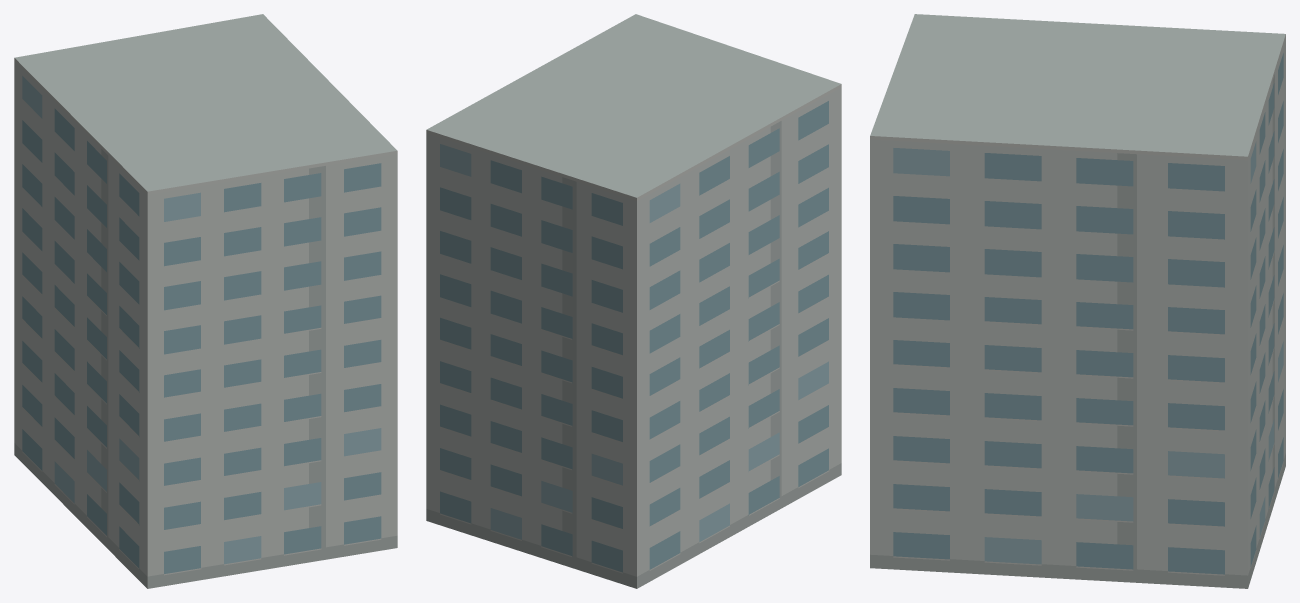
The model's file is residential-7b1aa19a-1a05-4b7d-828a-0db3f1a5bff5.glb.
3 renders of one model, left to right at view 1: azimuth 30°, elevation 25°; view 2: azimuth 150°, elevation 25°; view 3: azimuth 270°, elevation 25°, orthographic. The views are drawn at different scales.
Parts seen in each view (by area): view 1: residential-7b1aa19a-1a05-4b7d-828a-0db3f1a5bff5.tmp; view 2: residential-7b1aa19a-1a05-4b7d-828a-0db3f1a5bff5.tmp; view 3: residential-7b1aa19a-1a05-4b7d-828a-0db3f1a5bff5.tmp.
Part boxes in pixels (left/top/right/bottom): residential-7b1aa19a-1a05-4b7d-828a-0db3f1a5bff5.tmp: left=14, top=14, right=397, bottom=588; residential-7b1aa19a-1a05-4b7d-828a-0db3f1a5bff5.tmp: left=426, top=14, right=841, bottom=588; residential-7b1aa19a-1a05-4b7d-828a-0db3f1a5bff5.tmp: left=870, top=14, right=1285, bottom=588.
Bounding box in the file's own units: 20.54 × 29 × 25.29.
